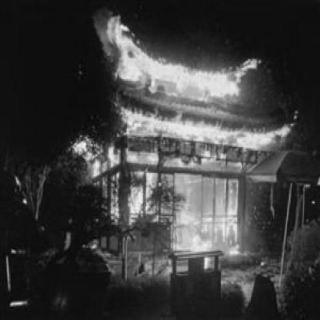Fire: (105, 25, 281, 269)
